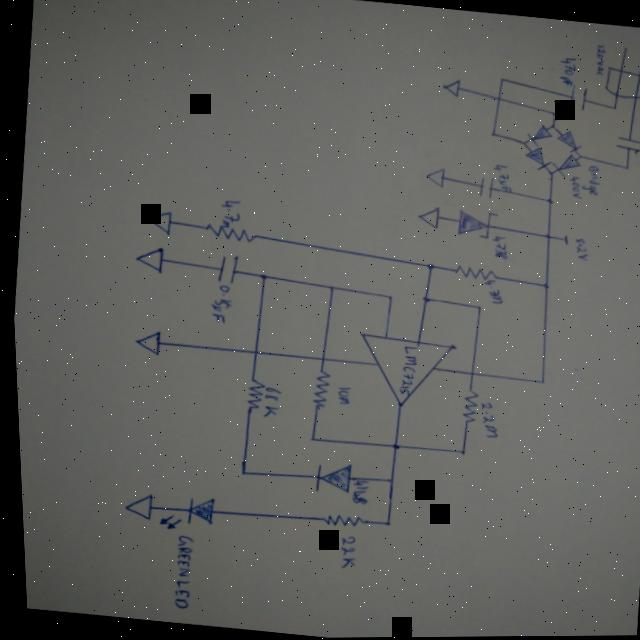capacitor: (211, 252, 237, 284), (565, 84, 588, 110), (611, 135, 640, 152), (474, 175, 493, 200)
crossover: (492, 94, 502, 103), (464, 369, 472, 378), (313, 355, 323, 362), (246, 349, 255, 356)
diode: (151, 492, 211, 534), (451, 208, 498, 241), (308, 460, 348, 496), (547, 151, 581, 180), (521, 145, 552, 173), (523, 121, 552, 148), (552, 129, 583, 154)
ground: (130, 243, 163, 274), (129, 326, 159, 357), (117, 490, 149, 519), (140, 207, 172, 236), (412, 204, 439, 230), (421, 165, 445, 189), (438, 76, 462, 98)
junction: (539, 196, 553, 206), (536, 281, 549, 291), (416, 295, 429, 304), (421, 263, 433, 272), (469, 304, 479, 313), (539, 233, 550, 241), (496, 75, 505, 84), (546, 110, 557, 117), (385, 443, 396, 450), (255, 273, 265, 280), (381, 293, 391, 300), (544, 170, 553, 177), (533, 378, 542, 385), (453, 448, 462, 455), (381, 477, 390, 484), (323, 284, 332, 291), (379, 519, 387, 526), (234, 470, 243, 476), (304, 436, 312, 442), (547, 123, 555, 129), (487, 132, 494, 138), (621, 166, 627, 171), (575, 154, 581, 159), (519, 141, 525, 146), (610, 106, 615, 111)
resistor: (201, 222, 257, 244), (303, 370, 329, 410), (450, 263, 495, 282), (316, 512, 360, 530), (453, 388, 475, 424), (239, 379, 263, 411)
terminal: (558, 233, 567, 246), (621, 45, 628, 52), (640, 47, 640, 54)
text: (162, 534, 192, 610), (392, 344, 417, 397), (203, 283, 231, 325), (472, 402, 498, 439), (214, 198, 241, 230), (577, 163, 602, 197), (331, 534, 353, 571), (257, 386, 280, 420), (487, 164, 513, 193), (555, 55, 577, 87), (477, 279, 503, 305), (343, 479, 366, 507), (486, 235, 508, 261), (590, 43, 607, 76), (568, 237, 588, 262), (564, 176, 583, 200), (331, 386, 348, 406), (636, 126, 640, 167)
